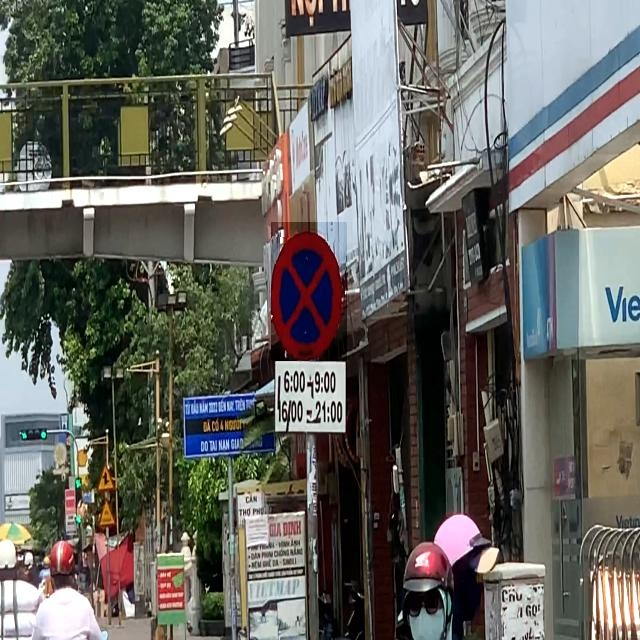bien_cam: (271, 222, 347, 361)
